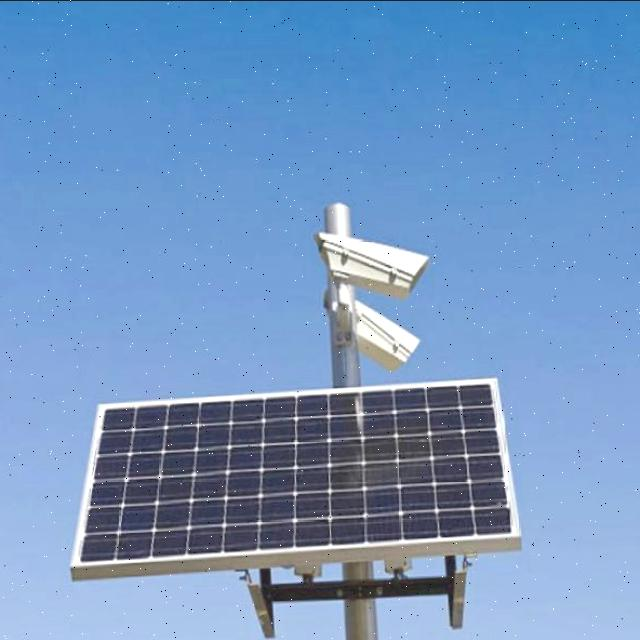Normal Solar Panel: (59, 375, 512, 562)
